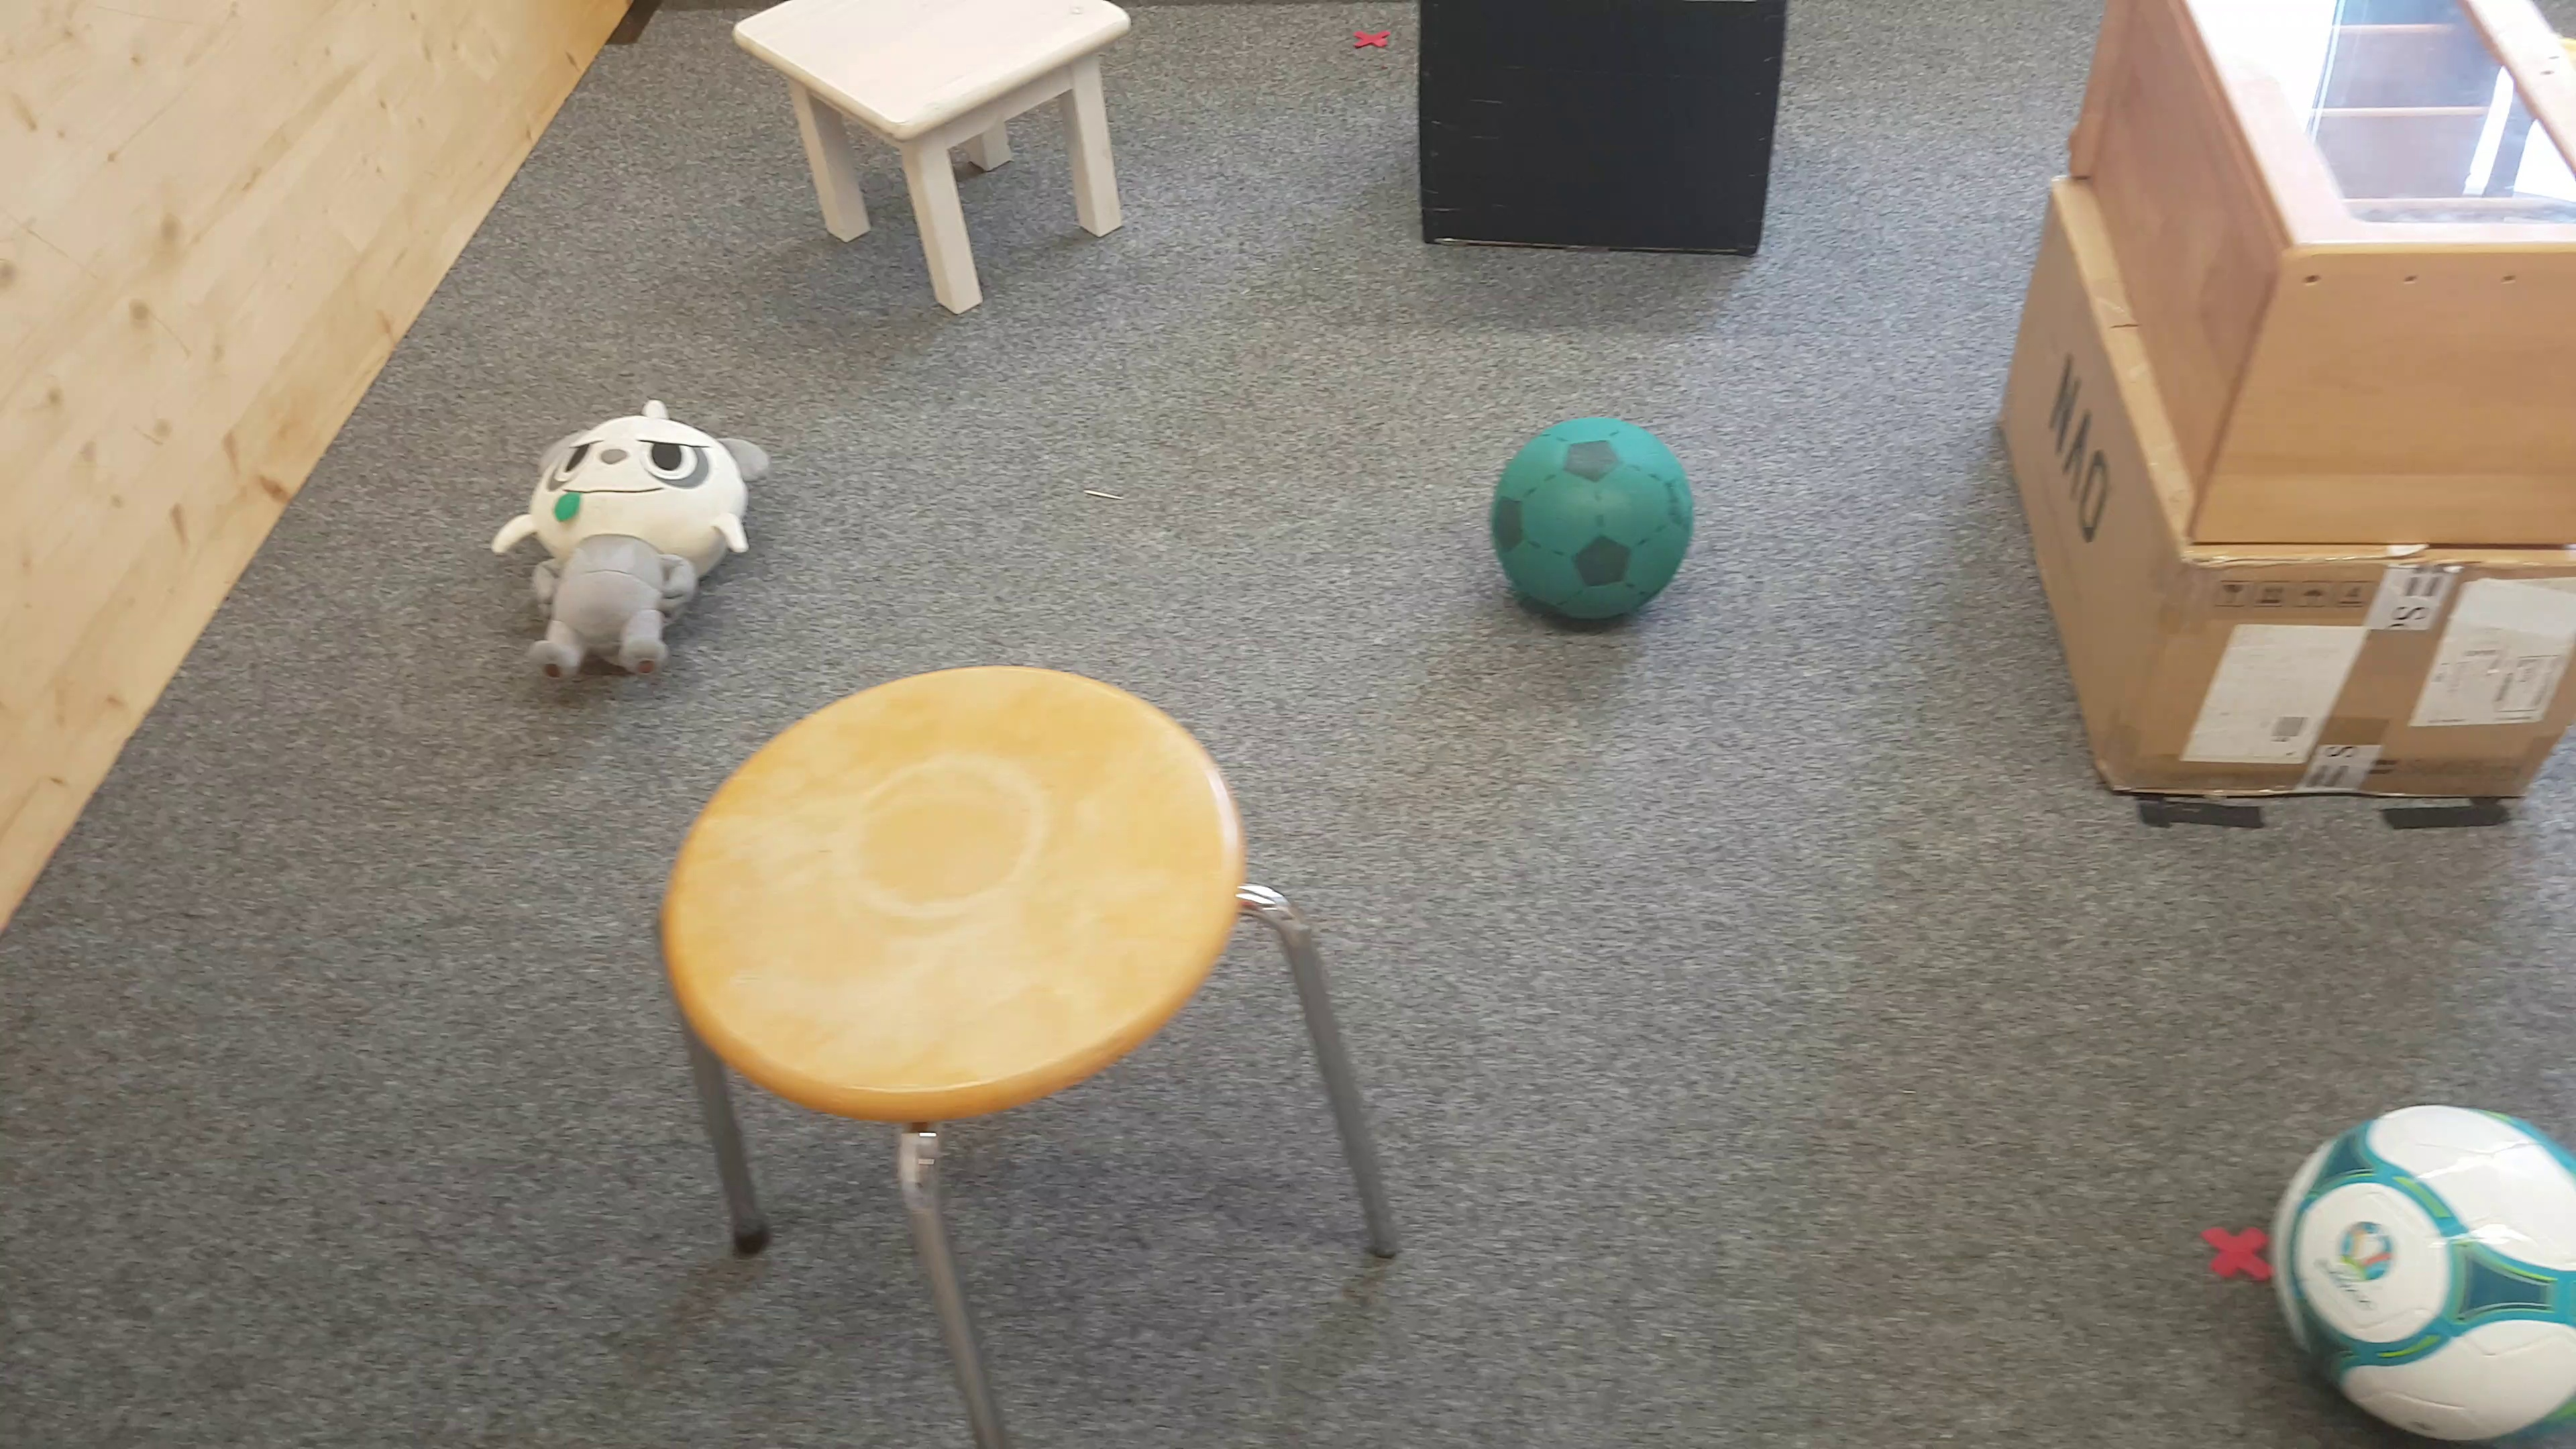grasp: (490, 400, 773, 685)
kick: (2265, 1099, 2576, 1424), (1497, 419, 1697, 628)
push: (1417, 9, 1799, 267)
